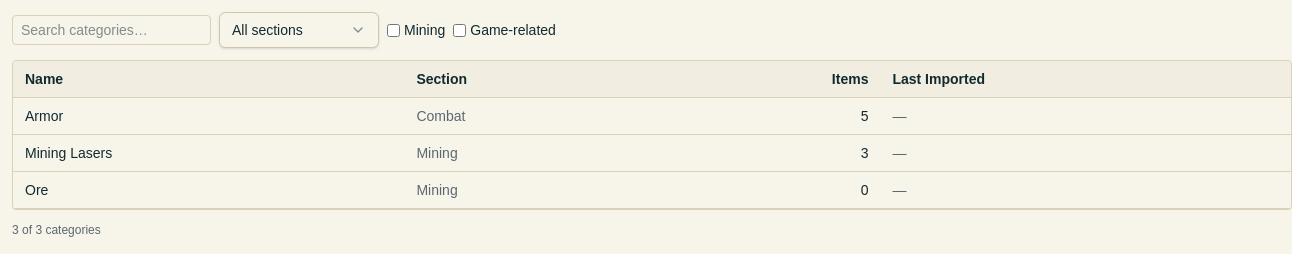
Scenario: CategorySelector › filters by name search
Type "armor" into the field with placeholder "Search categories…".
click(112, 30); type("armor")  # box [12,15,211,45]
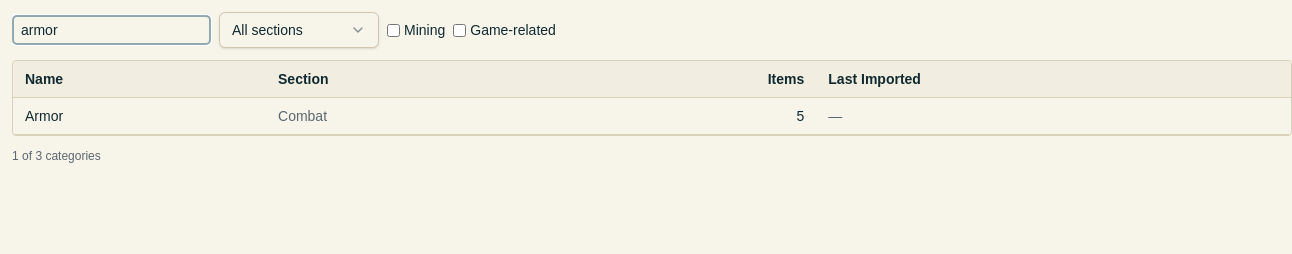
Check: the text "Armor" is shown, box [13,98,266,134]
Check: the text "Mining Lasers" is gone
